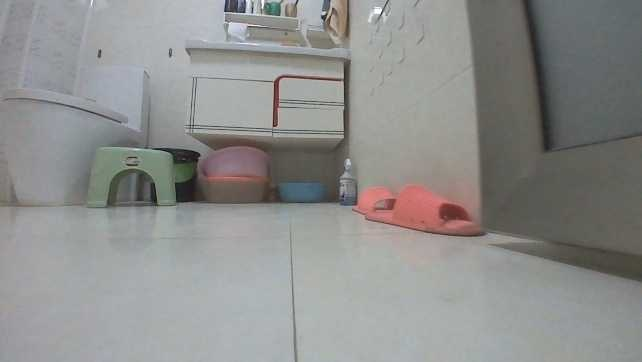plastic_stool: (85, 143, 181, 208)
slipper: (365, 181, 488, 237), (350, 184, 398, 214)
toilet: (1, 60, 154, 205)
trash_can: (150, 146, 200, 202)
washstand: (181, 38, 355, 152)
